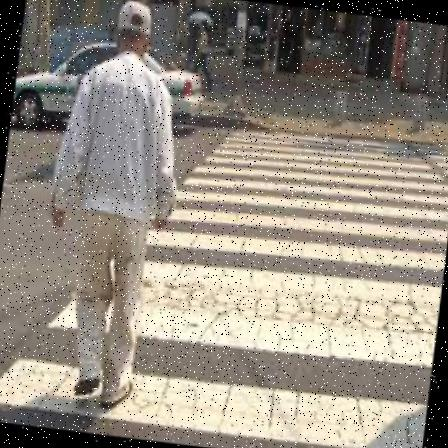silver: (29, 0, 199, 413)
